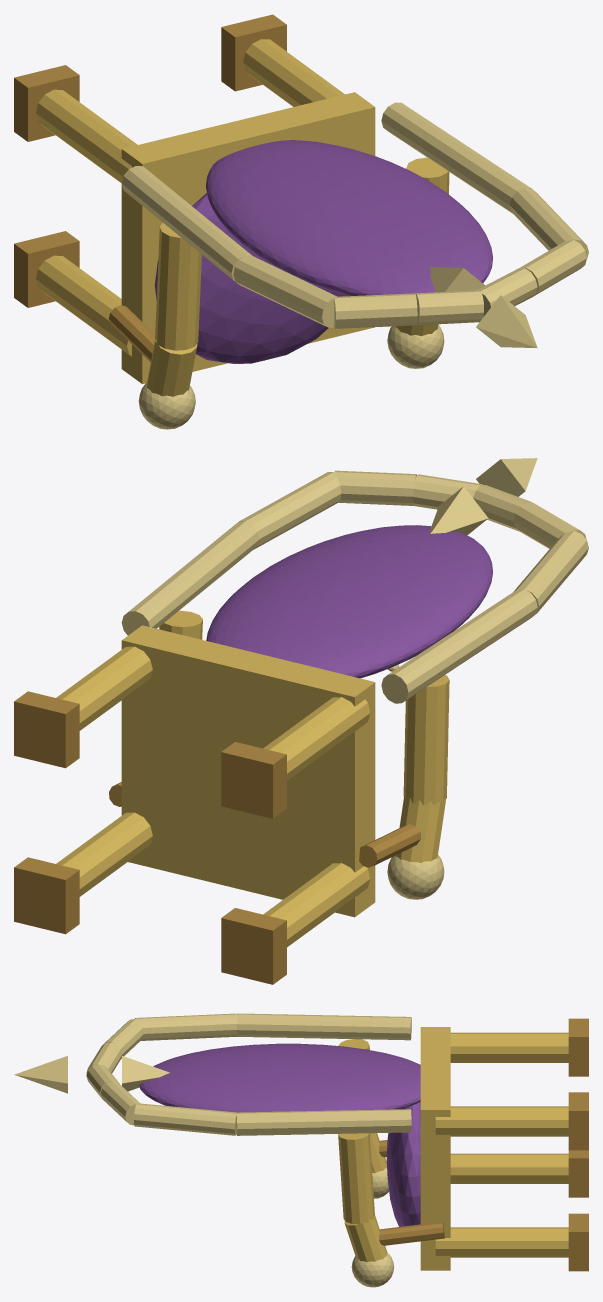
Rendered from chair_royal_amethyst.glb.
3 views of the same model, one above another, from view 1: azimuth 30°, elevation 25°; view 2: azimuth 150°, elevation 25°; view 3: azimuth 270°, elevation 25° (orthographic). The views are drawn at different scales.
Visible parts, largest first — view 1: world; view 2: world; view 3: world.
Part boxes in pixels (box(x1,y1,x2,y2)): world: box(14, 14, 588, 429); world: box(14, 458, 588, 984); world: box(14, 1013, 588, 1287).
Bounding box in the file's own units: 0.9459 × 0.752 × 2.11.
